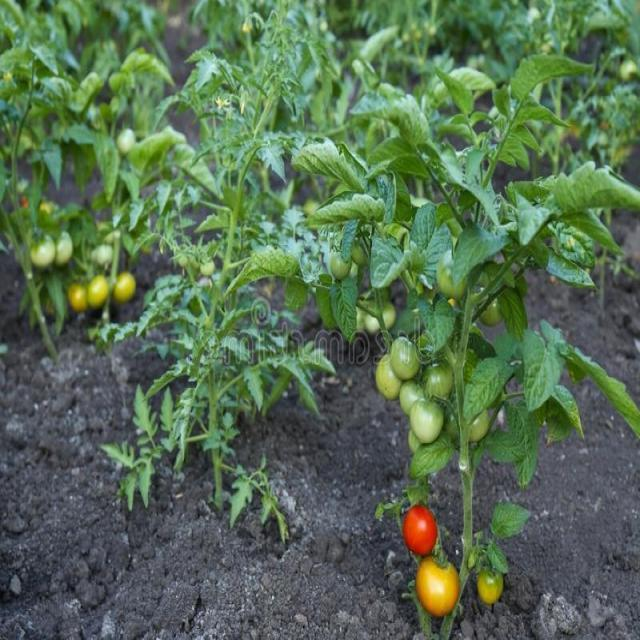tomato: (292, 13, 640, 638), (102, 4, 310, 540), (0, 0, 218, 357)
